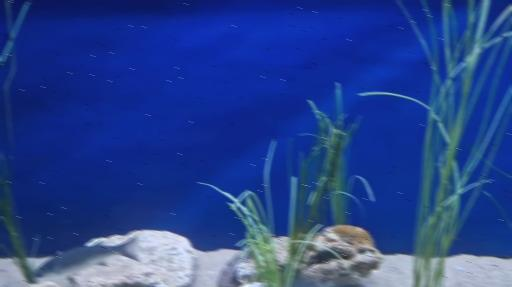Fish: (35, 236, 140, 277)
